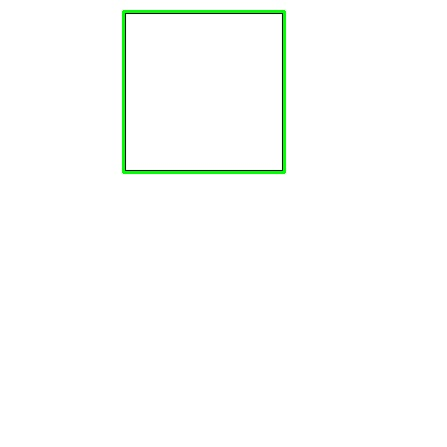line_segment: (122, 10, 285, 174)
